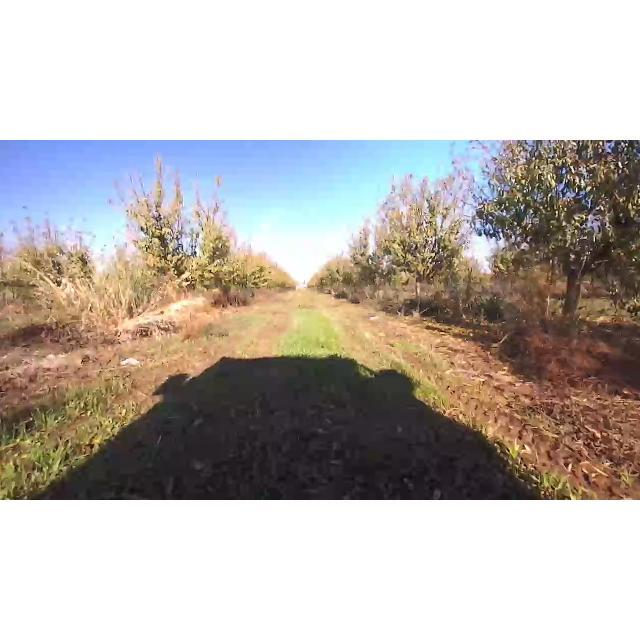tree: (464, 140, 640, 336), (108, 160, 242, 308), (362, 174, 474, 330)
